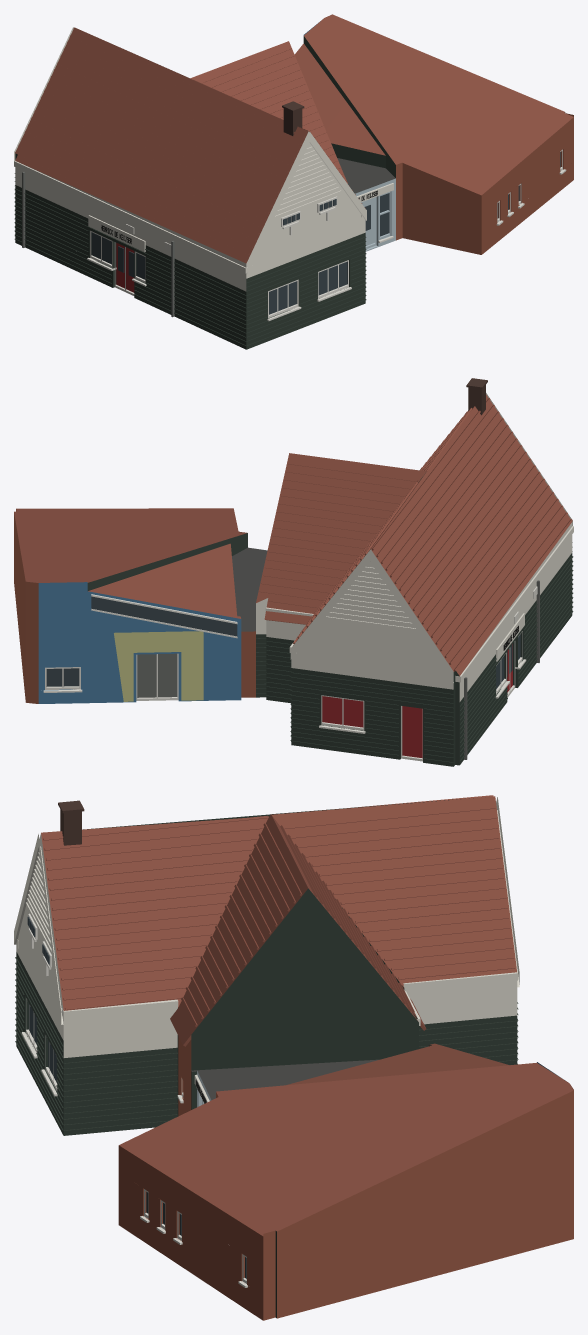
The model's file is henrick-de-keijser-buurtgebouw.glb.
3 views of the same model, one above another, from view 1: azimuth 30°, elevation 25°; view 2: azimuth 150°, elevation 25°; view 3: azimuth 270°, elevation 25° (orthographic). The views are drawn at different scales.
Parts seen in each view (by area): view 1: henrick-de-keijser-buurtgebouw; view 2: henrick-de-keijser-buurtgebouw; view 3: henrick-de-keijser-buurtgebouw.
Part boxes in pixels (x1,y1,x2,y2): henrick-de-keijser-buurtgebouw: (14, 14, 573, 349); henrick-de-keijser-buurtgebouw: (14, 378, 573, 766); henrick-de-keijser-buurtgebouw: (14, 795, 573, 1320).
Size of the model in its own units: 24.29 by 10.17 by 18.14.
